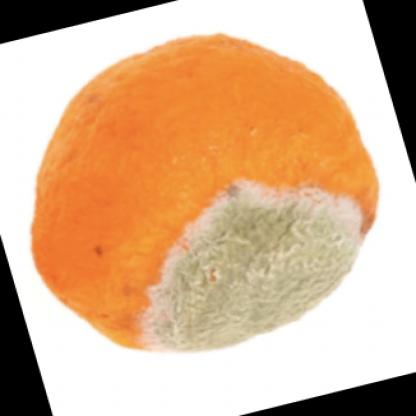rotten_orange: (7, 12, 385, 362)
